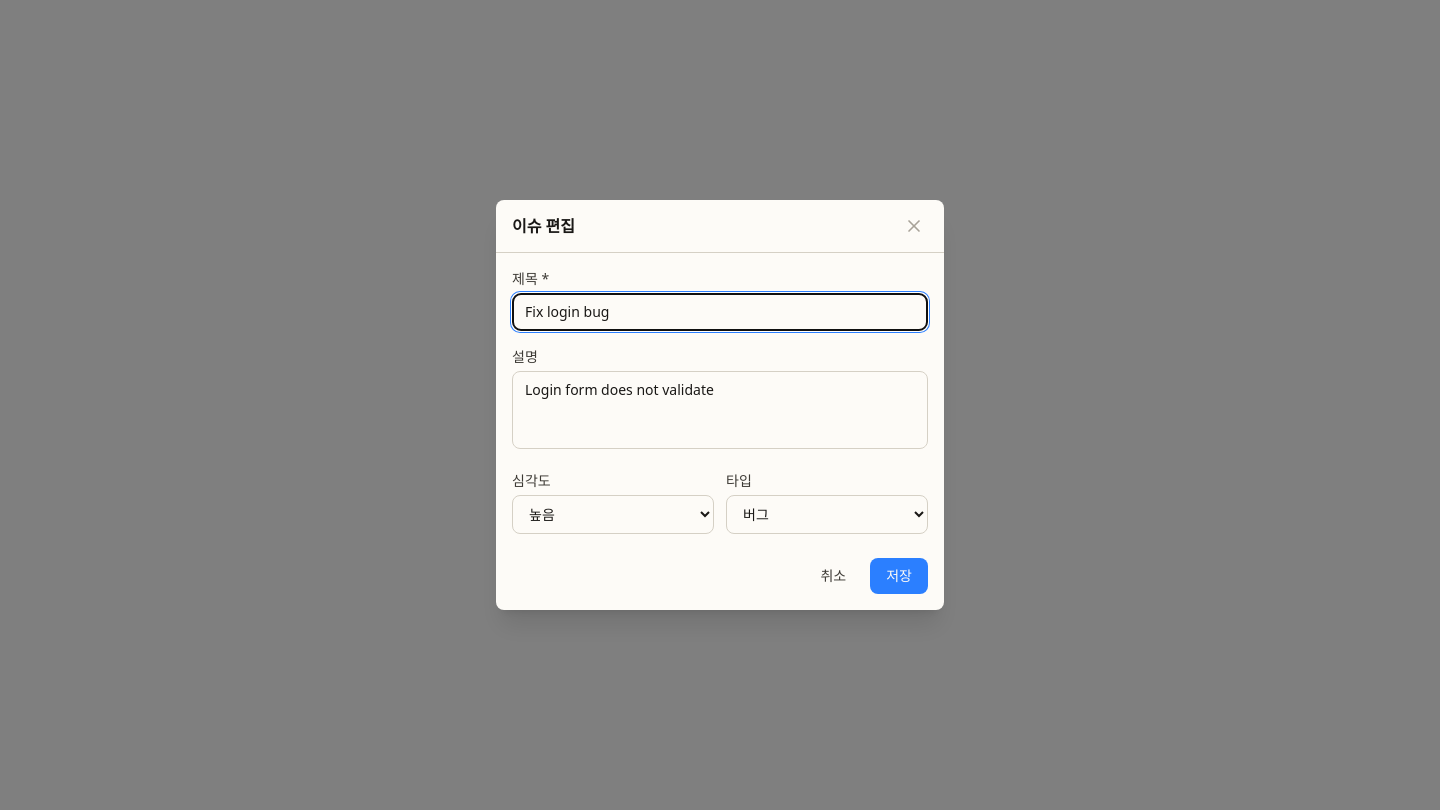
Scenario: IssueEditDialog › should disable submit when title is empty
Clear the field labelled "제목 *" at (720, 312), box [512,293,928,331]
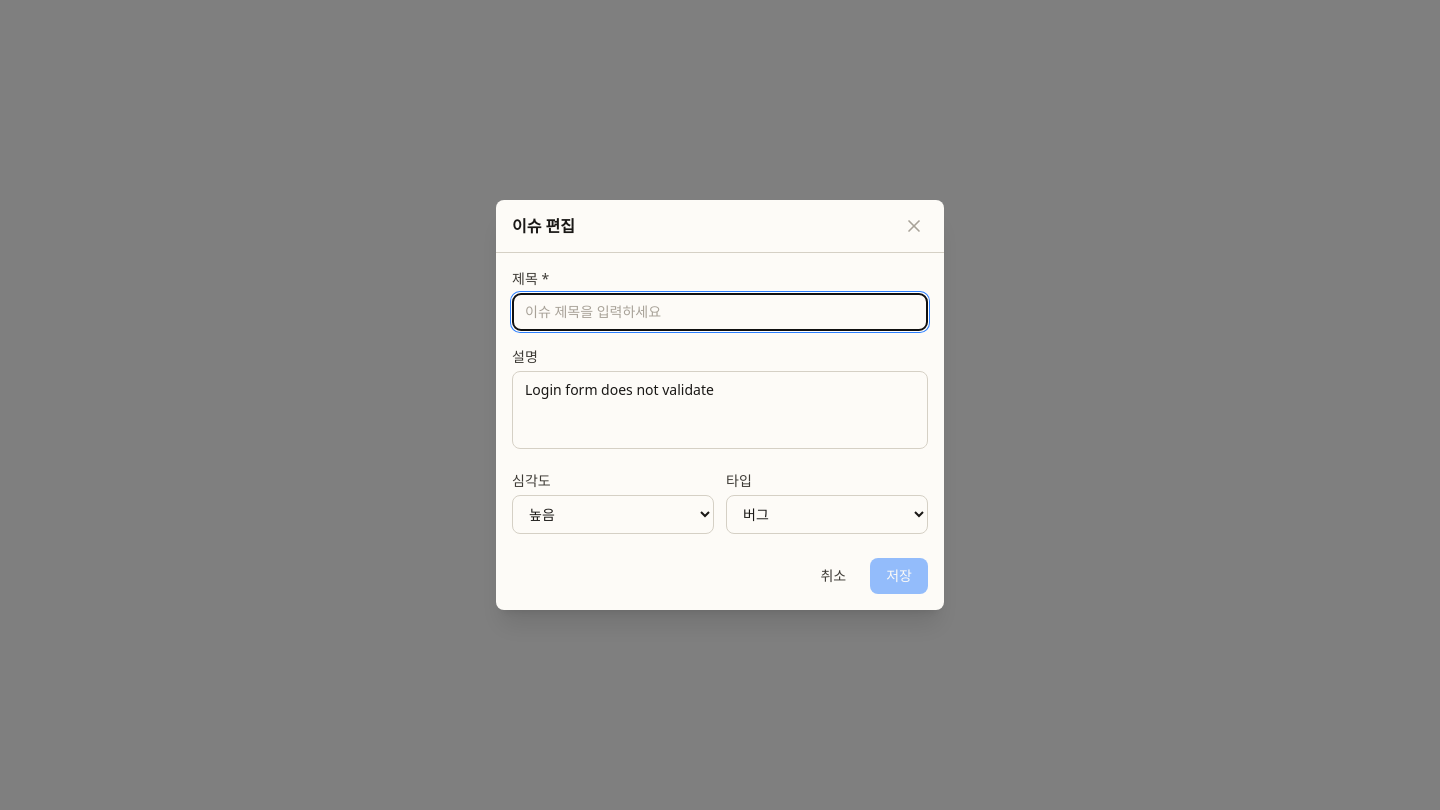
Result: the button "저장" is disabled at [870,558,928,594]
